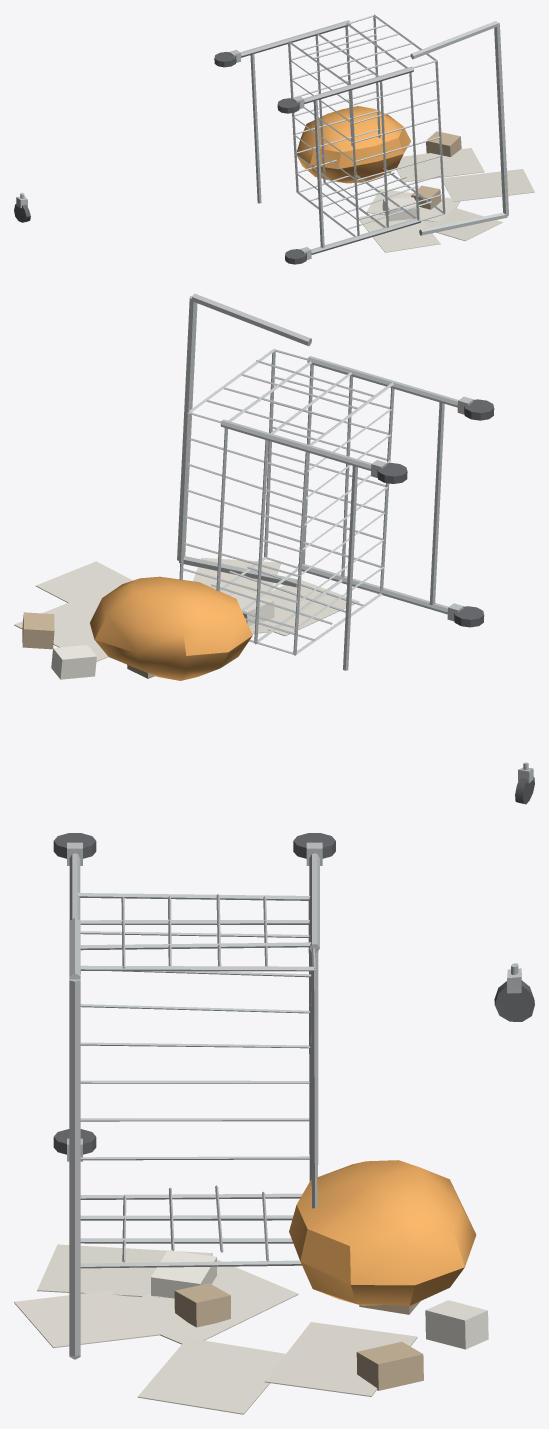
Rendered from wire_cart_broken.fbx.
3 renders of one model, top to bottom at view 1: azimuth 30°, elevation 25°; view 2: azimuth 150°, elevation 25°; view 3: azimuth 270°, elevation 25°, orthographic. The views are drawn at different scales.
Parts seen in each view (by area): view 1: wire_cart_broken, wire_cart_broken_debris; view 2: wire_cart_broken, wire_cart_broken_debris; view 3: wire_cart_broken_debris, wire_cart_broken.
Part boxes in pixels (x1,y1,x2,y2): wire_cart_broken: (214,14,508,264); wire_cart_broken_debris: (14,106,534,252); wire_cart_broken: (177,293,494,670); wire_cart_broken_debris: (14,557,534,804); wire_cart_broken_debris: (14,963,534,1414); wire_cart_broken: (53,833,335,1359).
Bounding box in the file's own units: 178 × 78.93 × 97.85.
